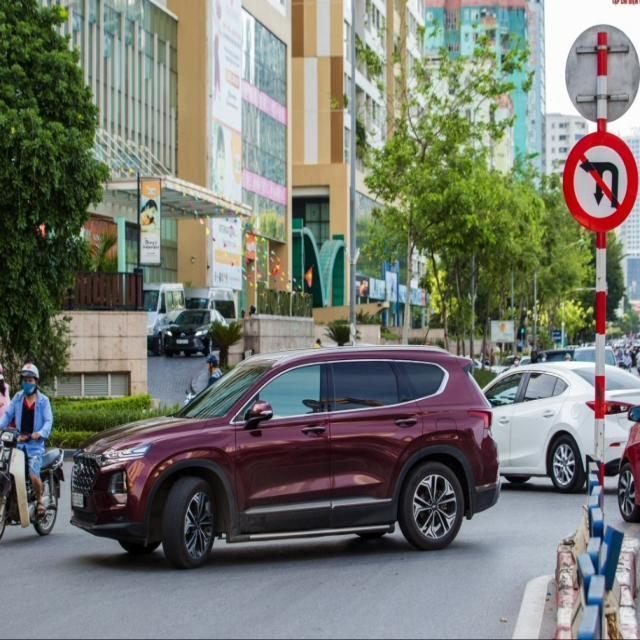130-cam-dung-va-do-xe: (564, 135, 638, 230)
